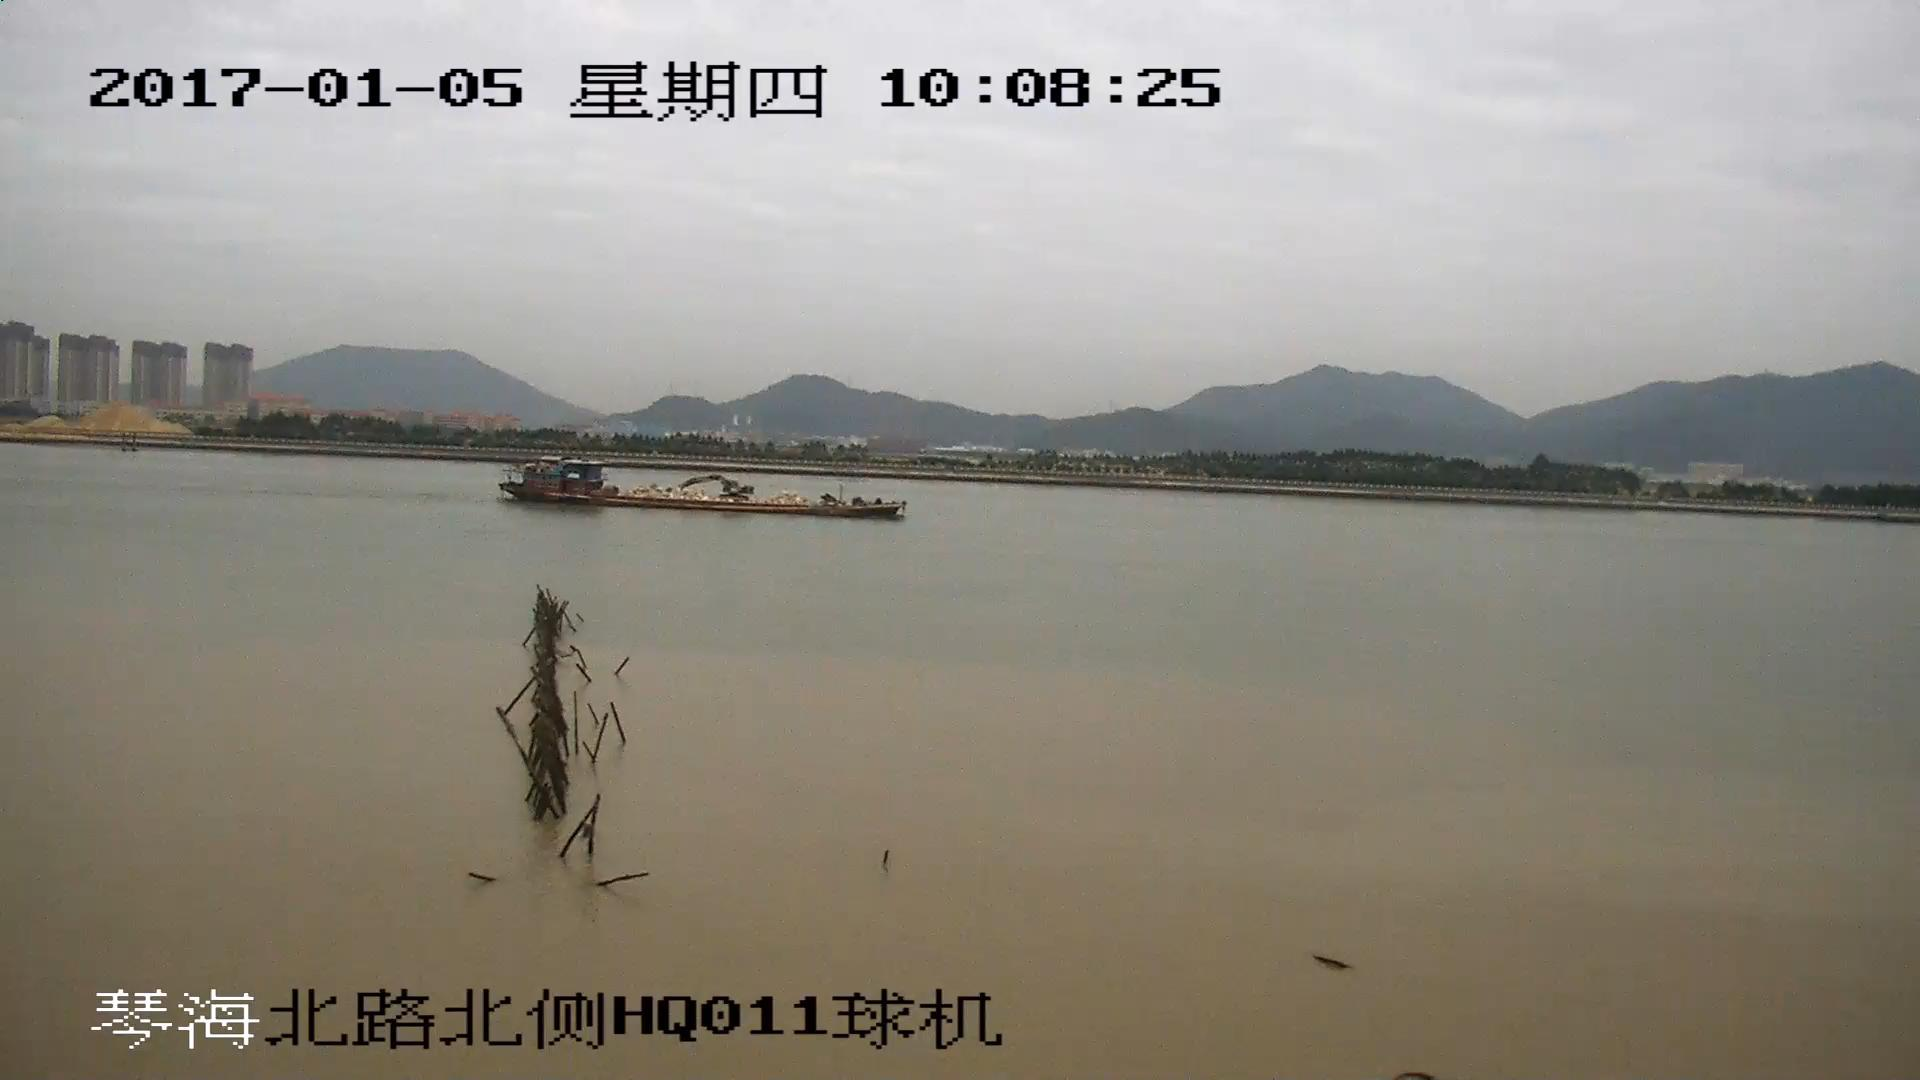Ship: (501, 458, 909, 517)
